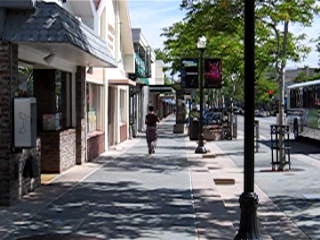person: (144, 105, 161, 156), (143, 105, 160, 156), (145, 105, 162, 156), (144, 104, 161, 155), (144, 106, 161, 157)
target_negative: (18, 196, 215, 230), (230, 9, 278, 117), (290, 30, 318, 150), (267, 5, 284, 75), (288, 208, 308, 233), (294, 225, 305, 228)
